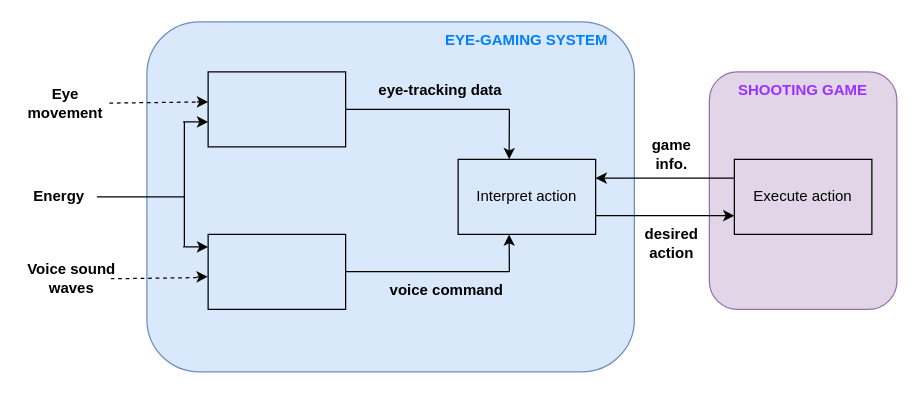
Some shapes in this 919 by 394 pixel diagram are drawn without their labels. Here are the shapes that lost their labels. From the top down, the box of each, then its label:
(207, 71, 346, 147): Track eye movement
(207, 233, 346, 309): Recognize voice command
